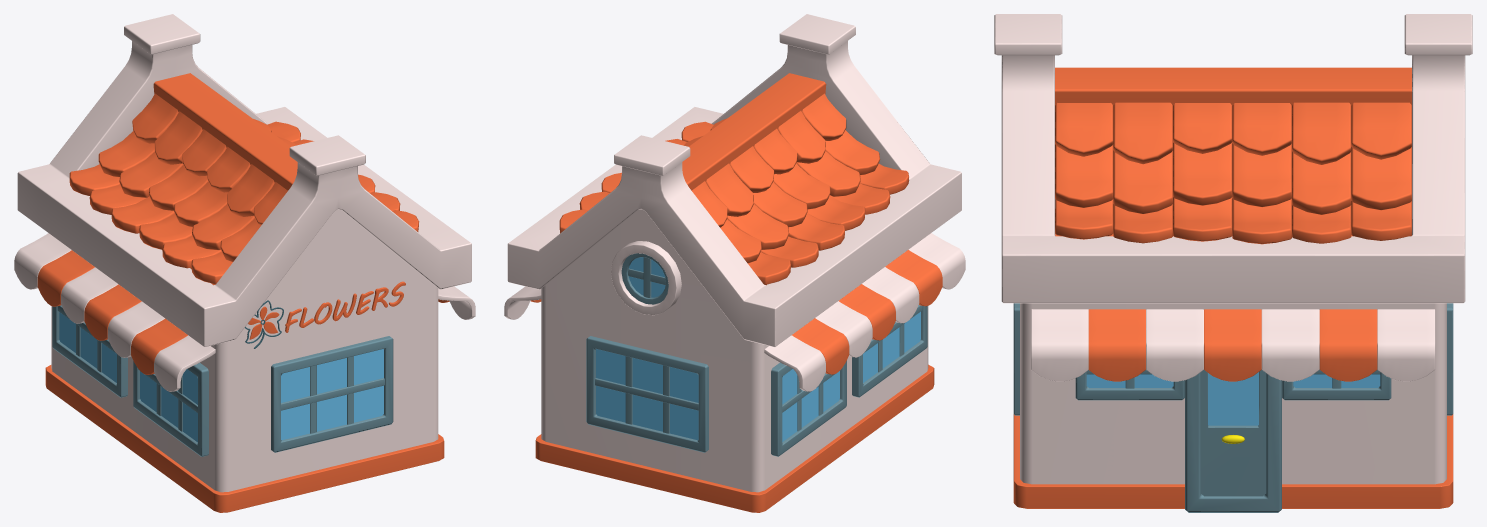
The model's file is Store_6_Flowers_Shop_1.glb.
3 renders of one model, left to right at view 1: azimuth 30°, elevation 25°; view 2: azimuth 150°, elevation 25°; view 3: azimuth 270°, elevation 25°, orthographic. The views are drawn at different scales.
Visible parts, largest first — view 1: Store_6_Flowers_Shop_1; view 2: Store_6_Flowers_Shop_1; view 3: Store_6_Flowers_Shop_1.
Boxes of the visible parts, x1,y1,x2,y2 form: Store_6_Flowers_Shop_1: (14,14,475,512); Store_6_Flowers_Shop_1: (504,14,965,512); Store_6_Flowers_Shop_1: (994,14,1472,512).
Bounding box in the file's own units: 5.54 × 5.88 × 6.2.
Materials: 1 (1 with a texture image).
